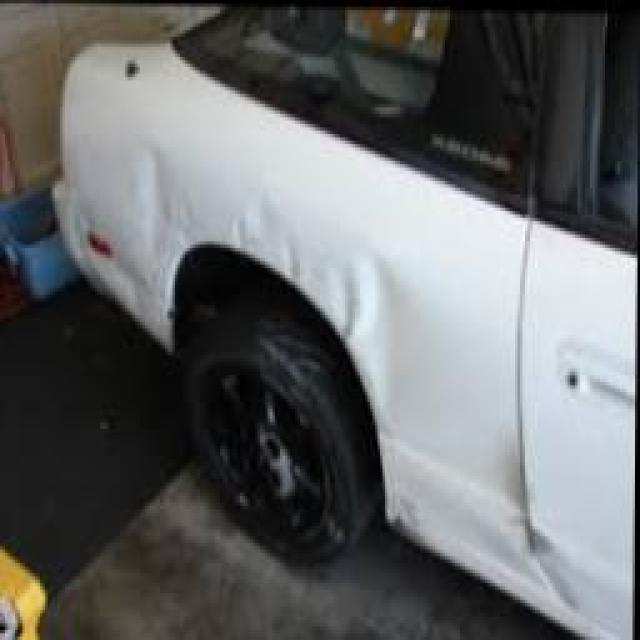Door: (87, 101, 449, 441), (385, 414, 617, 640)
